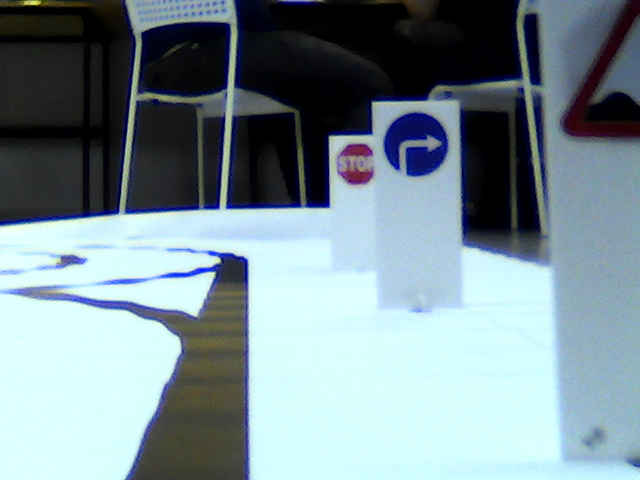Right: (384, 110, 448, 180)
Stop: (337, 144, 375, 188)
